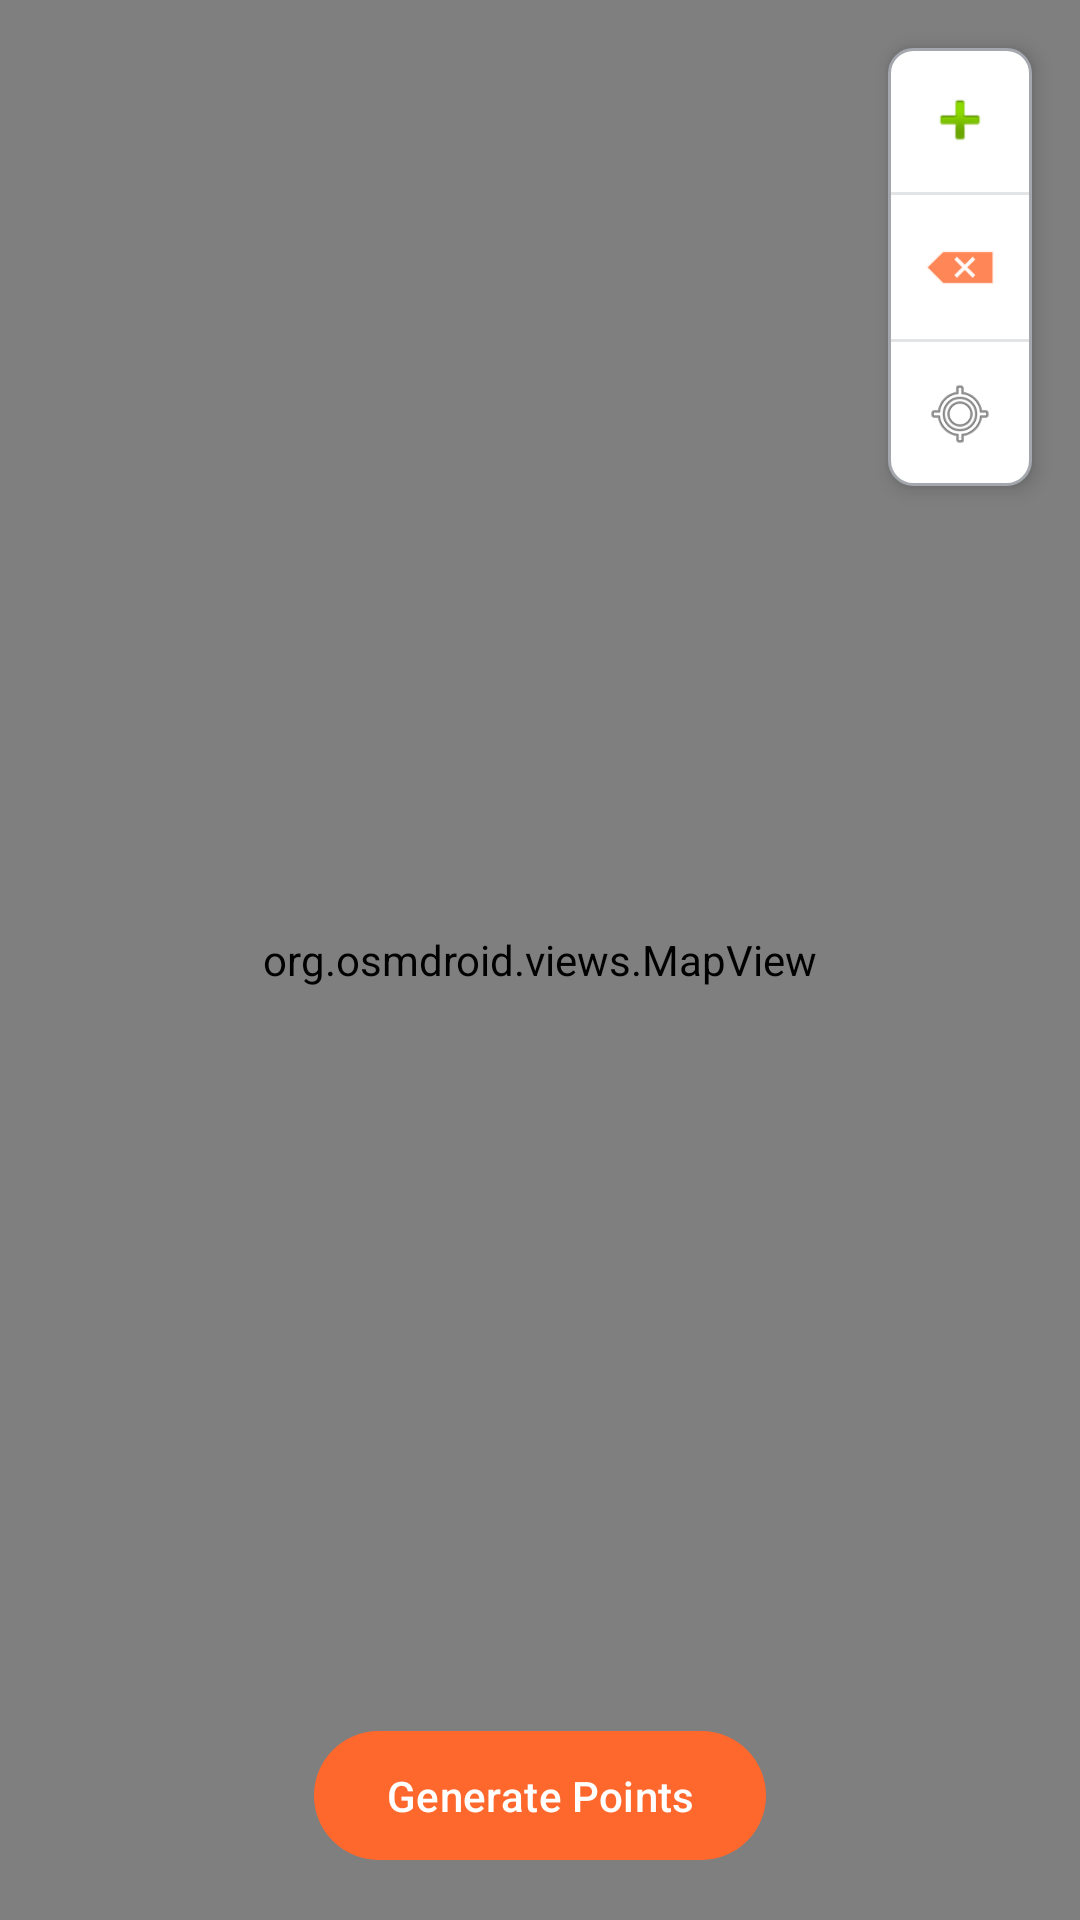

Icons on this 1080 × 1920 Android screen, each with the point to tap as point (x, y):
Center Map: point (960, 414)
delete: point (960, 267)
Zoom In: point (960, 120)
